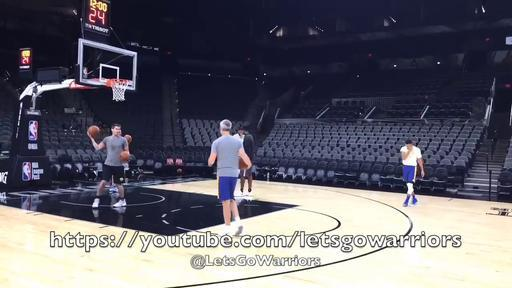ball: (88, 124, 100, 135), (120, 152, 130, 160)
human: (208, 118, 251, 236), (86, 122, 130, 207), (400, 140, 425, 206), (236, 128, 254, 198)
rim: (108, 79, 132, 101)
